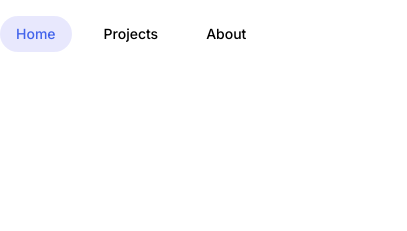
Navbar › Dropdown Menus › About link has dropdown items
This screenshot has width=407, height=231.
Hover over the link "About" at (226, 33), box [206,25,246,42]
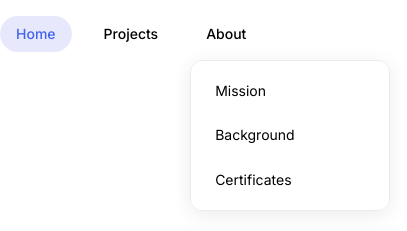
Expected: the text "Mission" is shown, [215,82,266,99]
Expected: the text "Background" is shown, [215,126,295,143]
Expected: the text "Certificates" is shown, [215,171,292,188]
